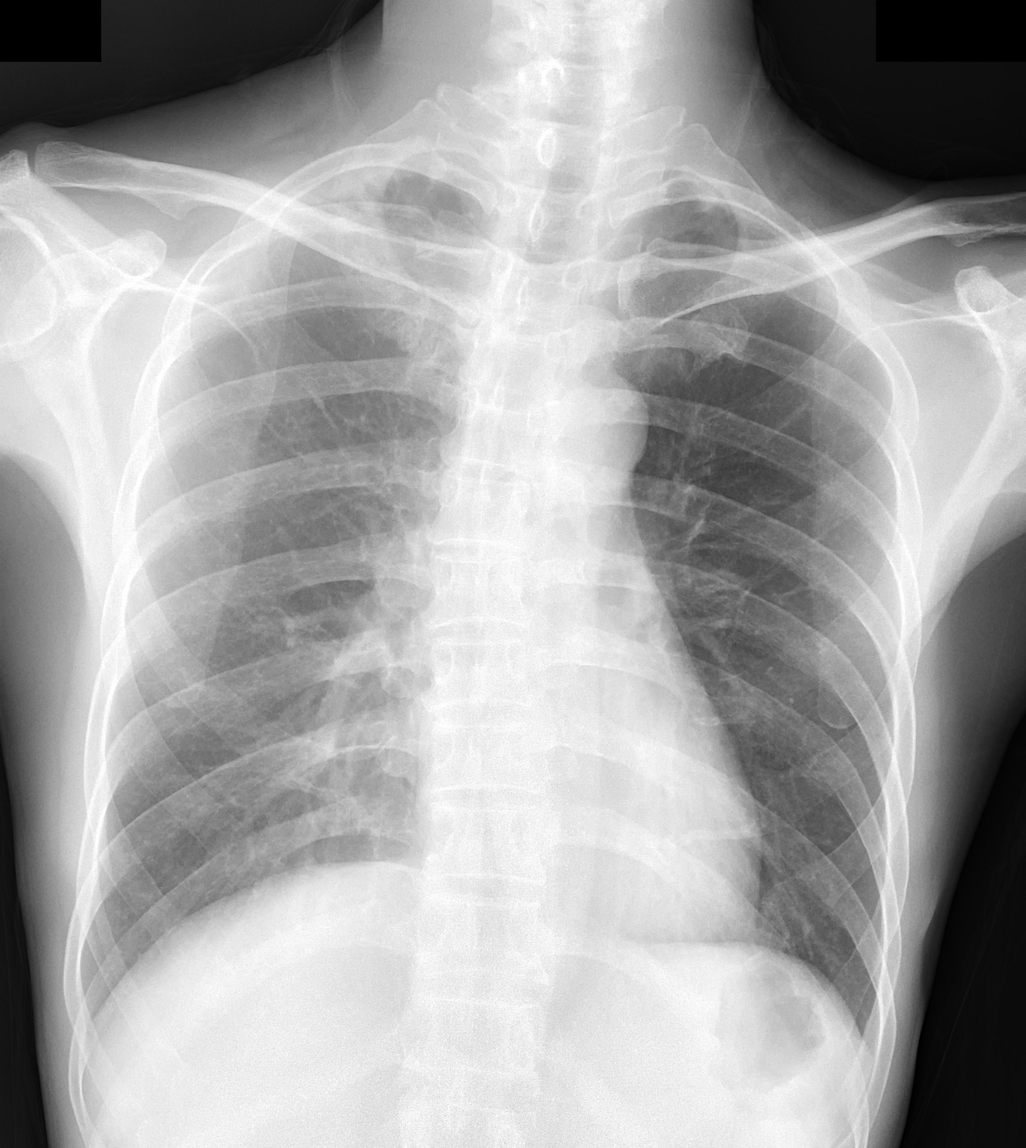Pleural thickening: (302, 144, 432, 203), (695, 188, 775, 235)
Pulmonary fibrosis: (302, 144, 432, 203)
